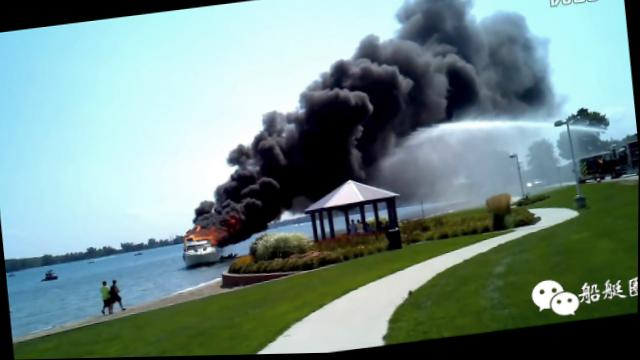fire: (193, 235, 212, 241), (188, 234, 194, 238)
